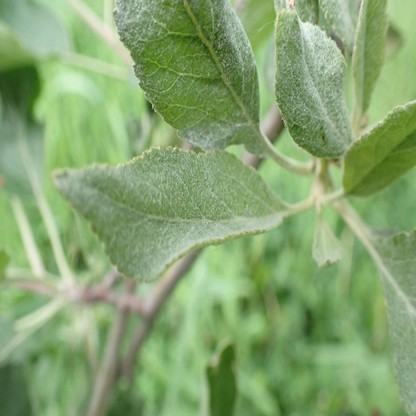powdery_mildew: (51, 148, 286, 281), (111, 1, 259, 150), (276, 0, 353, 157), (373, 230, 416, 416)
